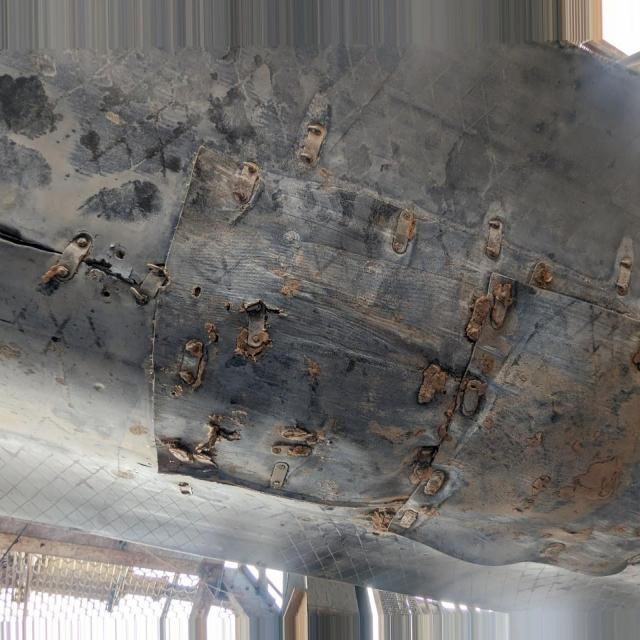patch work: (42, 109, 640, 581)
